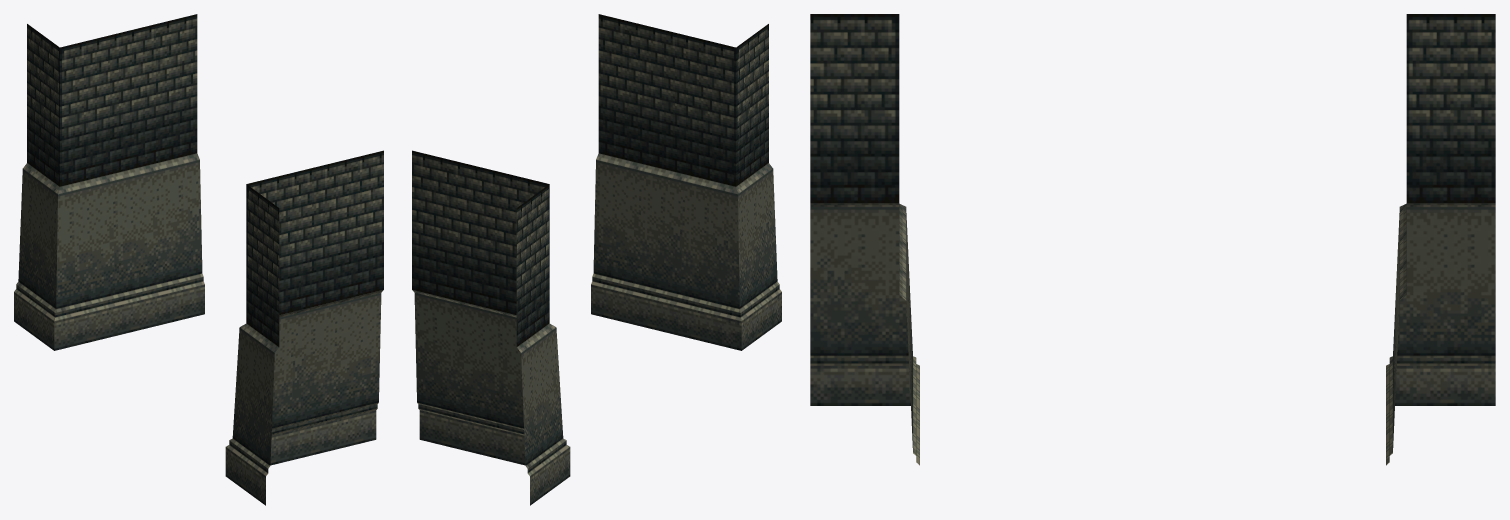
Rendered from EnvBdgMD_Castle_Raimei_A_Bridge_A_10W_End_A.FBX.
3 renders of one model, left to right at view 1: azimuth 30°, elevation 25°; view 2: azimuth 150°, elevation 25°; view 3: azimuth 270°, elevation 25°, orthographic. The views are drawn at different scales.
Visible parts, largest first — view 1: EnvBdgMD_Castle_Raimei_A_Bridge_A_10W_End_A; view 2: EnvBdgMD_Castle_Raimei_A_Bridge_A_10W_End_A; view 3: EnvBdgMD_Castle_Raimei_A_Bridge_A_10W_End_A.
Part boxes in pixels (x1=…): EnvBdgMD_Castle_Raimei_A_Bridge_A_10W_End_A: x1=14, y1=14, x2=383, y2=505; EnvBdgMD_Castle_Raimei_A_Bridge_A_10W_End_A: x1=412, y1=14, x2=781, y2=505; EnvBdgMD_Castle_Raimei_A_Bridge_A_10W_End_A: x1=810, y1=14, x2=1495, y2=465.
Bounding box in the file's own units: 345 × 645 × 1000.
